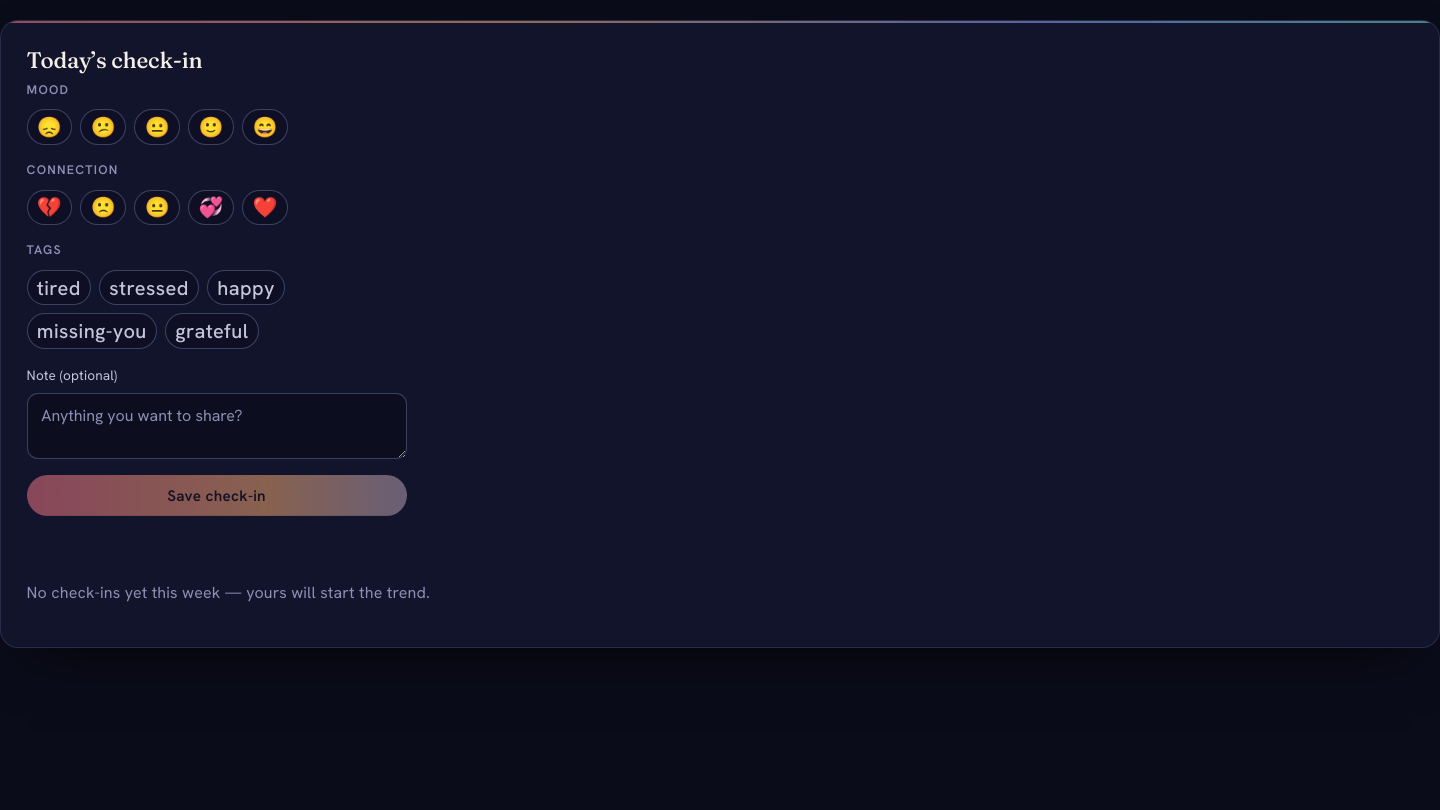
Scenario: CheckInCard › submits today's check-in and refreshes the averages
Expected: the text "No check-ins yet this week — yours will start the trend." is shown, [27, 582, 430, 603]
Click the radio button named "Good (4 of 5)" at (211, 127), box [188, 109, 234, 145]
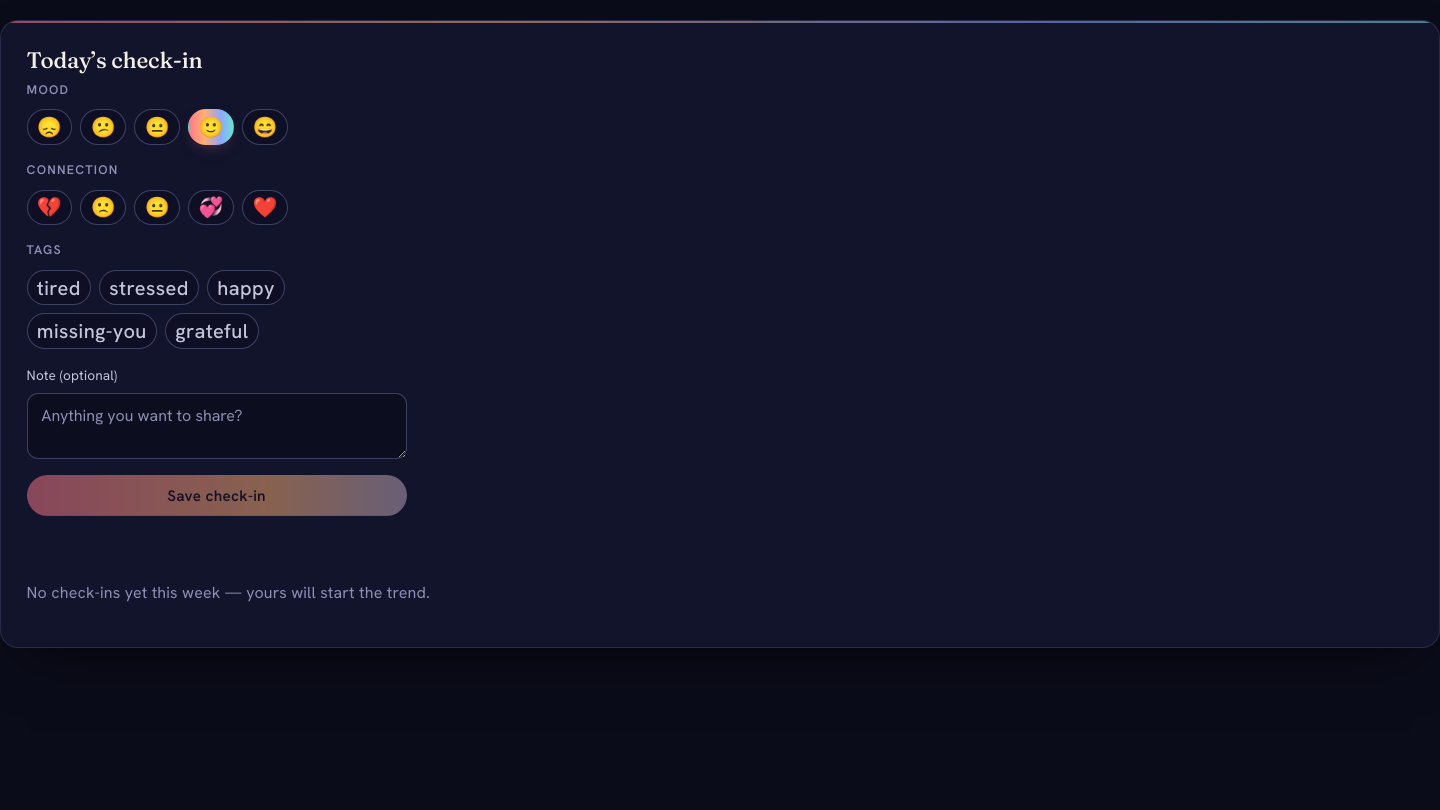
Click the radio button named "Connected (5 of 5)" at (265, 207), box [242, 190, 288, 225]
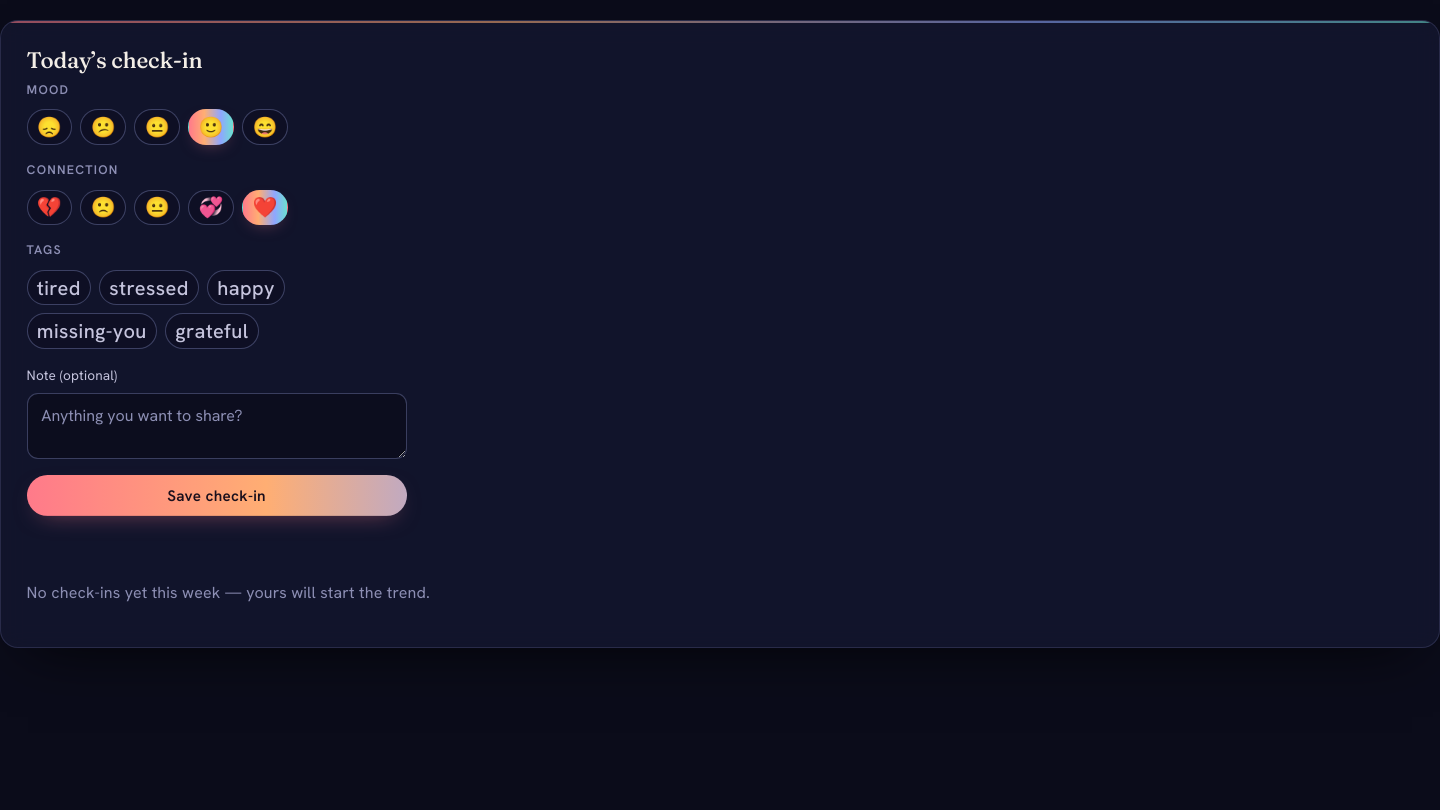
Click the button "Save check-in" at (217, 496), box [27, 475, 407, 516]
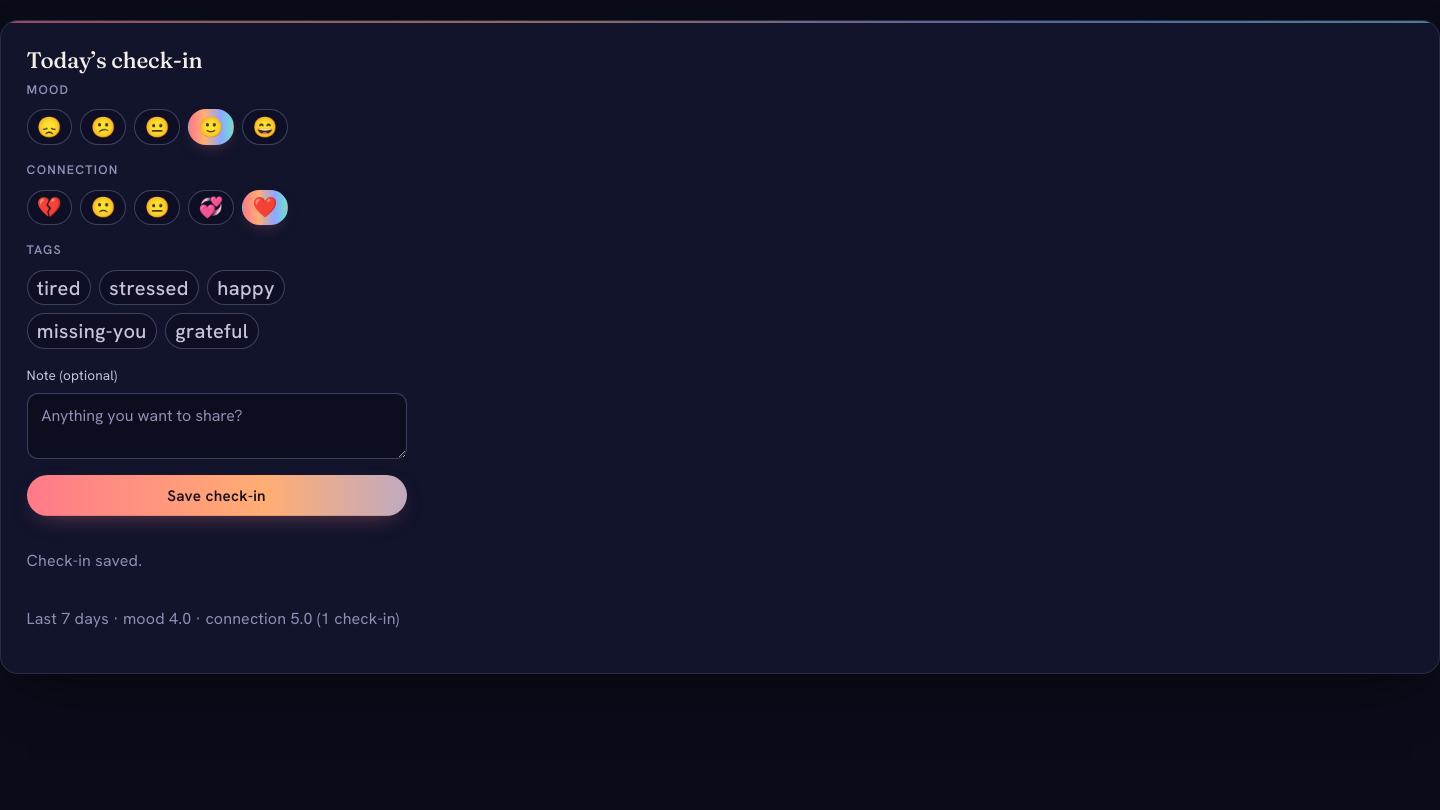
Expected: the text "Check-in saved." is shown, [27, 550, 142, 571]
Expected: the text "Last 7 days · mood 4.0 · connection 5.0 (1 check-in)" is shown, [27, 608, 399, 629]
